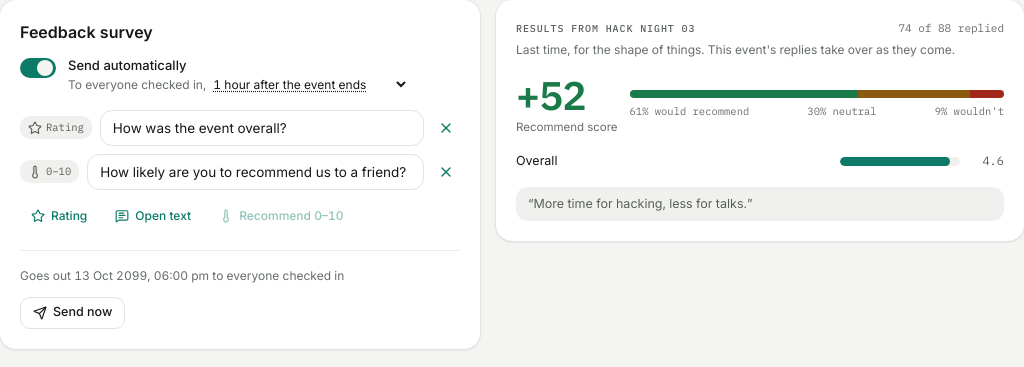
the feedback survey › removes a question, but never the last one
The image size is (1024, 367).
Click the button named "Remove question 1" at (446, 128), box [432,114,460,142]
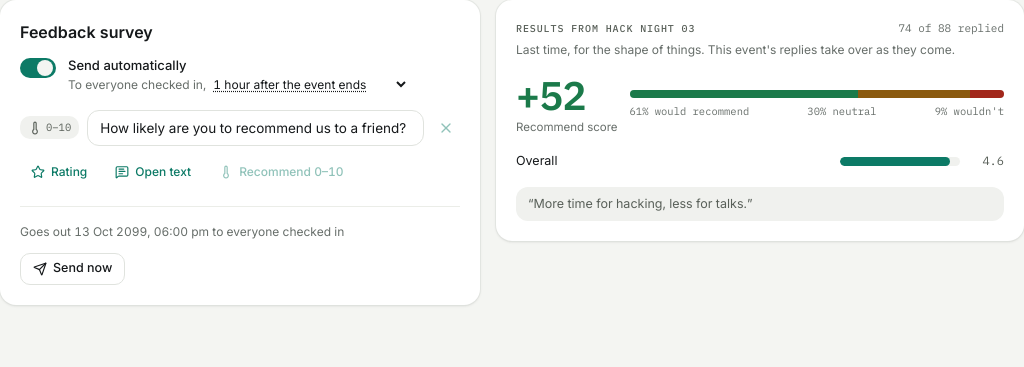
Now the button named "Remove question 1" is disabled, box [432,114,460,142]
